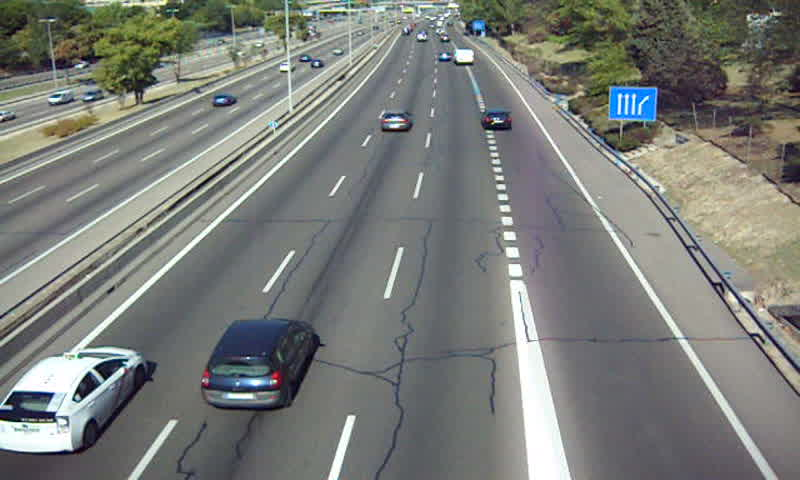car: (1, 345, 147, 453), (201, 318, 317, 410), (380, 107, 412, 132), (479, 109, 513, 130)
van: (452, 49, 475, 65)
